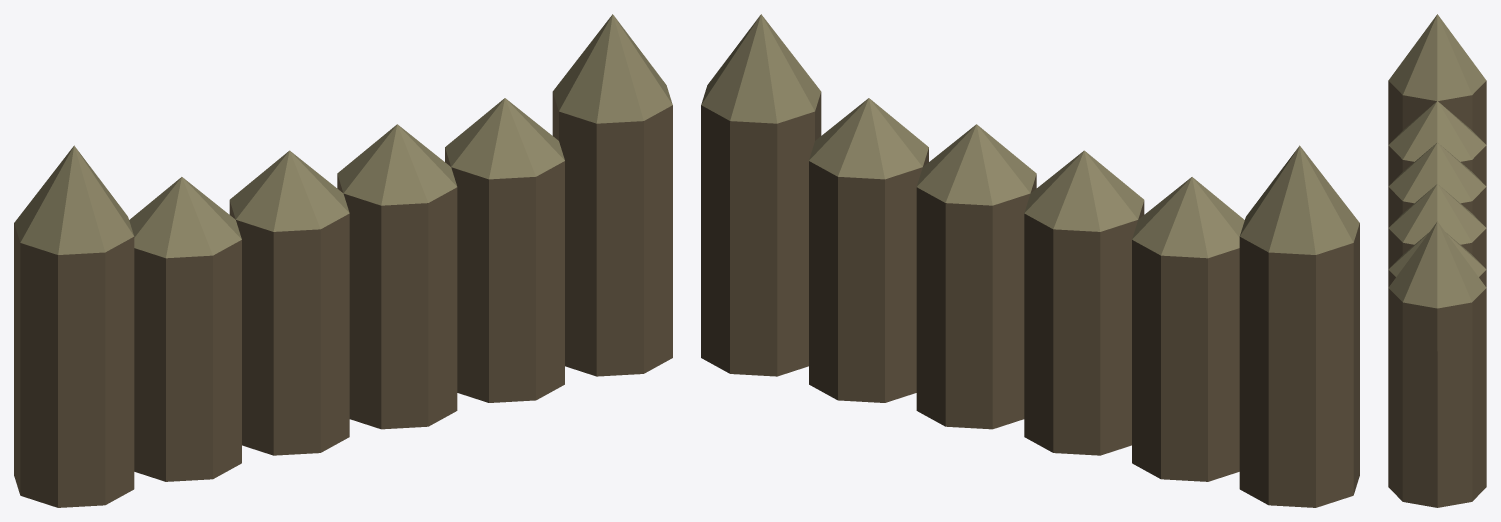
File: WoodenWall.fbx
The picture shows the model from 3 angles, left to right: view 1: azimuth 30°, elevation 25°; view 2: azimuth 150°, elevation 25°; view 3: azimuth 270°, elevation 25°; orthographic projection. The views are drawn at different scales.
Parts seen in each view (by area): view 1: Cylinder; view 2: Cylinder; view 3: Cylinder.
Boxes of the visible parts, box(x1,y1,x2,y2) form: Cylinder: box(14, 14, 672, 507); Cylinder: box(701, 14, 1359, 507); Cylinder: box(1388, 14, 1486, 507).
Size of the model in its own units: 7 by 3.49 by 1.17.
